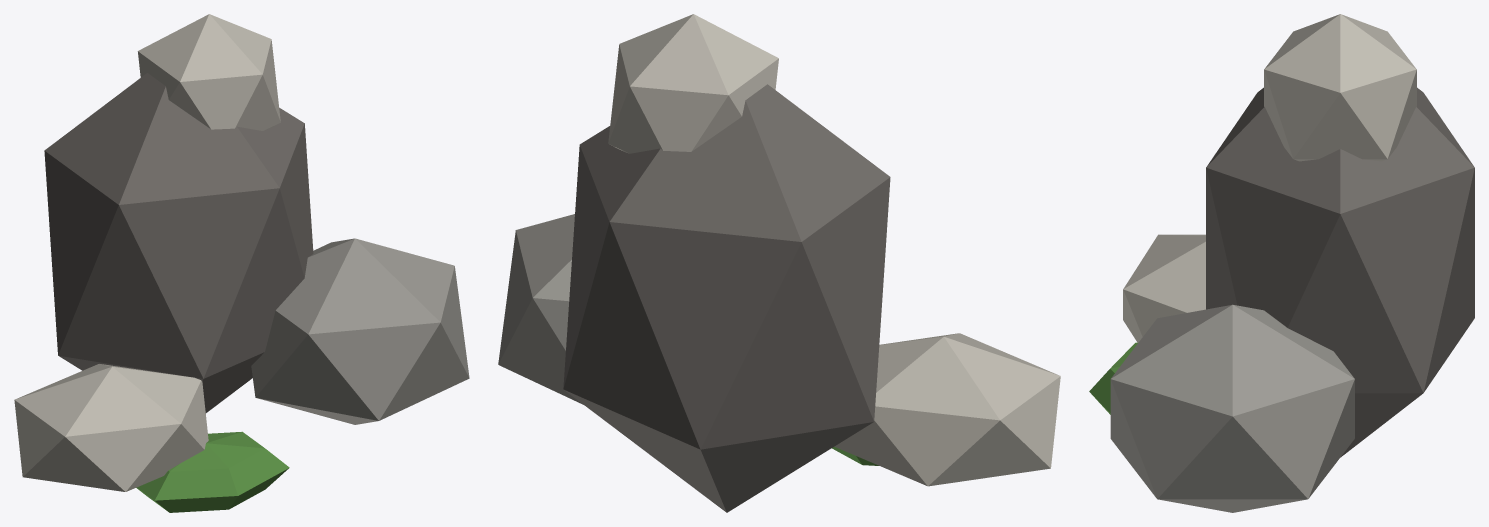
File: skala_1.glb
3 views of the same model, side by side, from view 1: azimuth 30°, elevation 25°; view 2: azimuth 150°, elevation 25°; view 3: azimuth 270°, elevation 25° (orthographic). The views are drawn at different scales.
Visible parts, largest first — view 1: skala_1; view 2: skala_1; view 3: skala_1.
Boxes of the visible parts, left/top/right/bottom form: skala_1: left=14, top=14, right=469, bottom=512; skala_1: left=498, top=14, right=1060, bottom=512; skala_1: left=1089, top=14, right=1474, bottom=512.
Bounding box in the file's own units: 1.58 × 1.41 × 1.07.
